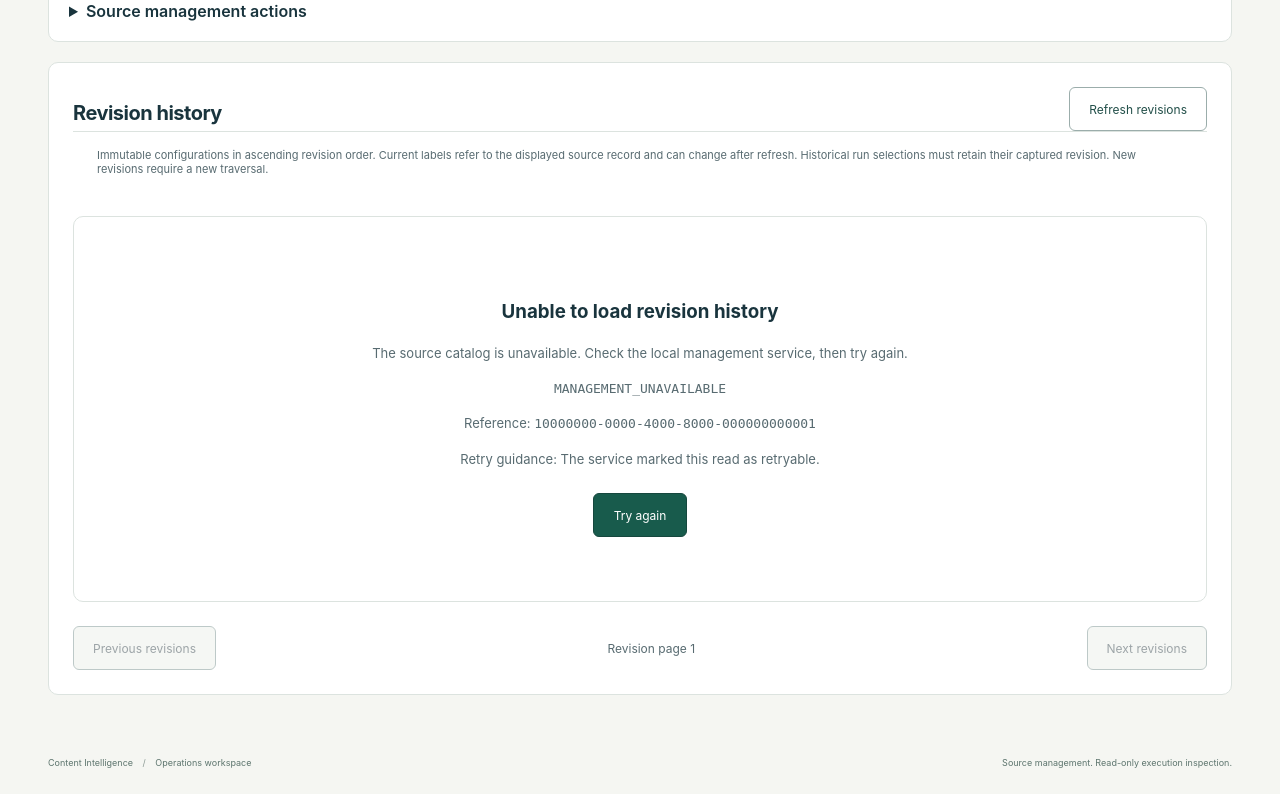
Test: current source and independent immutable history › keeps valid detail after a revision failure and retries history independently
(page scrolled)
Expected: the message that starts with "Unable to load revision history" shows "MANAGEMENT_UNAVAILABLE", x1=554 y1=381 x2=726 y2=396
Click the button "Try again".
click(640, 515)  # box x1=593 y1=493 x2=687 y2=537
(page scrolled)
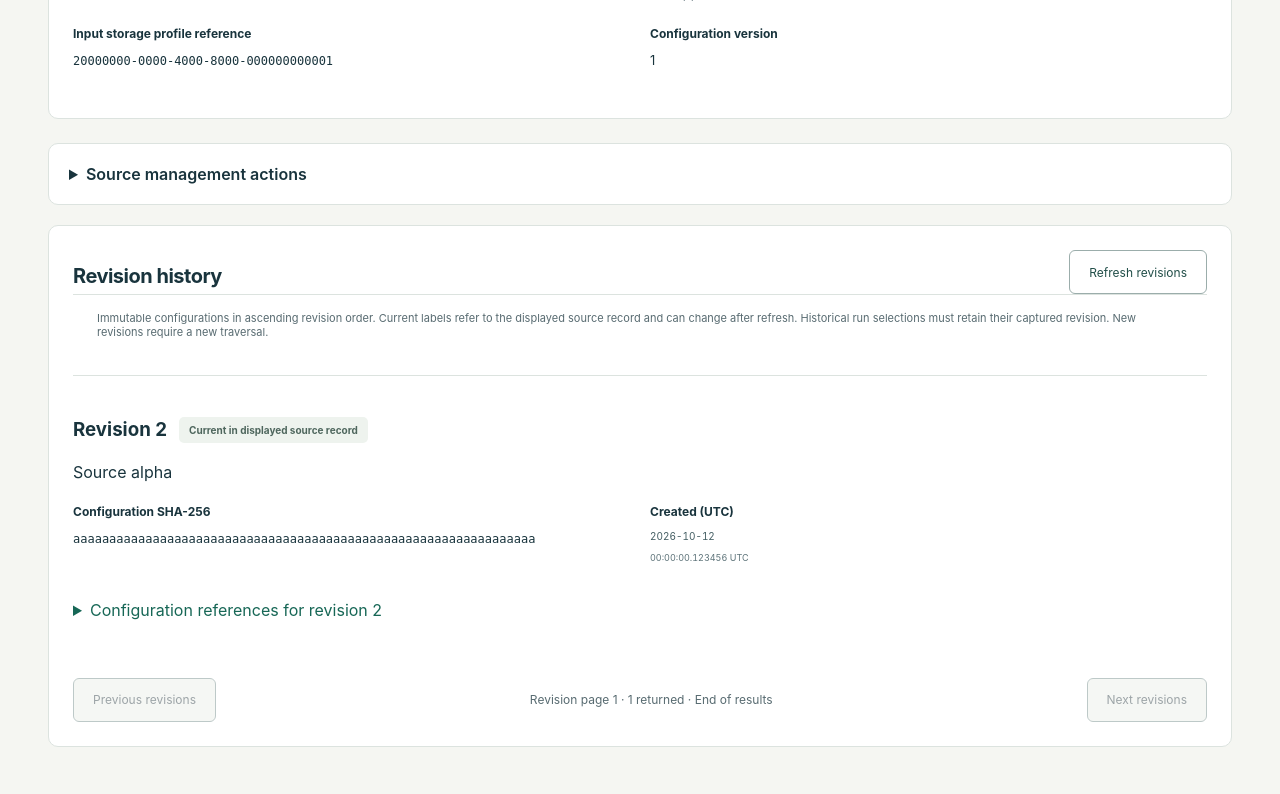
Expected: the text "Current in displayed source record" is shown, x1=179 y1=417 x2=368 y2=443
